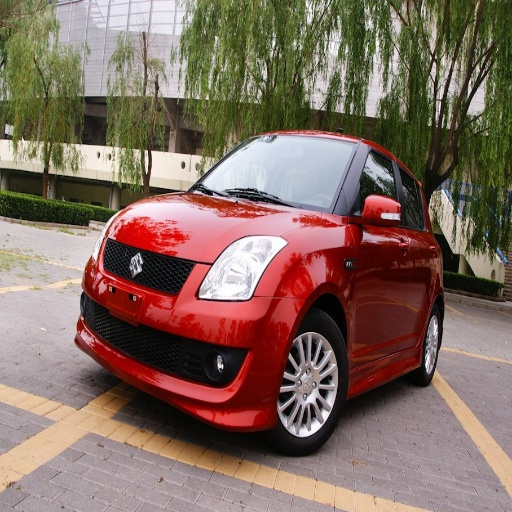front_bumper: (83, 240, 296, 426)
front_glass: (190, 136, 360, 214)
front_left_door: (351, 149, 410, 364)
